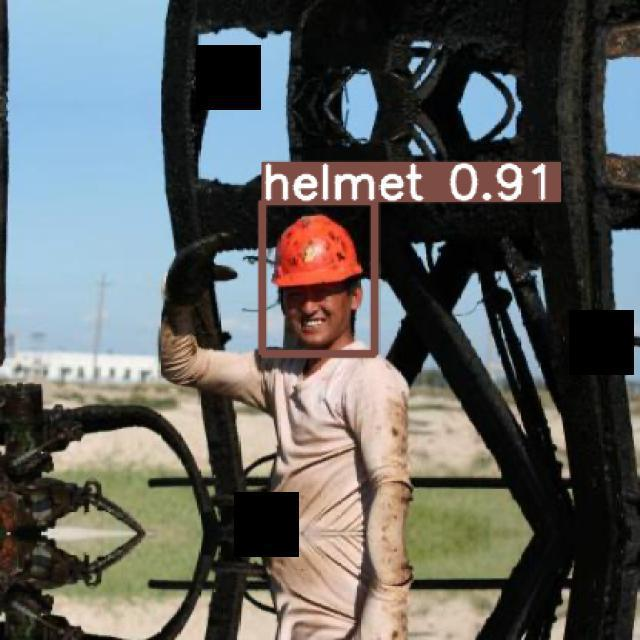red helmet: (268, 211, 367, 287)
